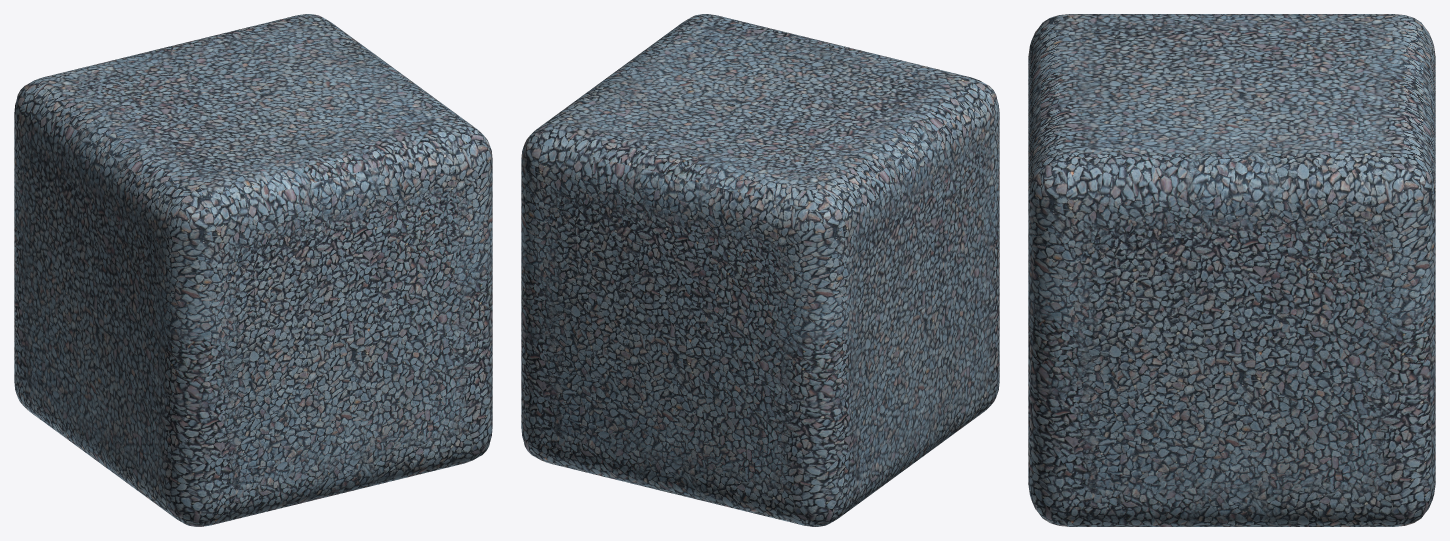
Rendered from tile01.glb.
3 renders of one model, left to right at view 1: azimuth 30°, elevation 25°; view 2: azimuth 150°, elevation 25°; view 3: azimuth 270°, elevation 25°, orthographic. The views are drawn at different scales.
Parts seen in each view (by area): view 1: node_Rounded cube - Rock (1)_-40254_1; view 2: node_Rounded cube - Rock (1)_-40254_1; view 3: node_Rounded cube - Rock (1)_-40254_1.
Part boxes in pixels (left/top/right/bottom): node_Rounded cube - Rock (1)_-40254_1: left=14, top=14, right=492, bottom=526; node_Rounded cube - Rock (1)_-40254_1: left=521, top=14, right=999, bottom=526; node_Rounded cube - Rock (1)_-40254_1: left=1028, top=14, right=1435, bottom=526.
Size of the model in its own units: 0.908 by 0.908 by 0.908.
Materials: 1 (1 with a texture image).
